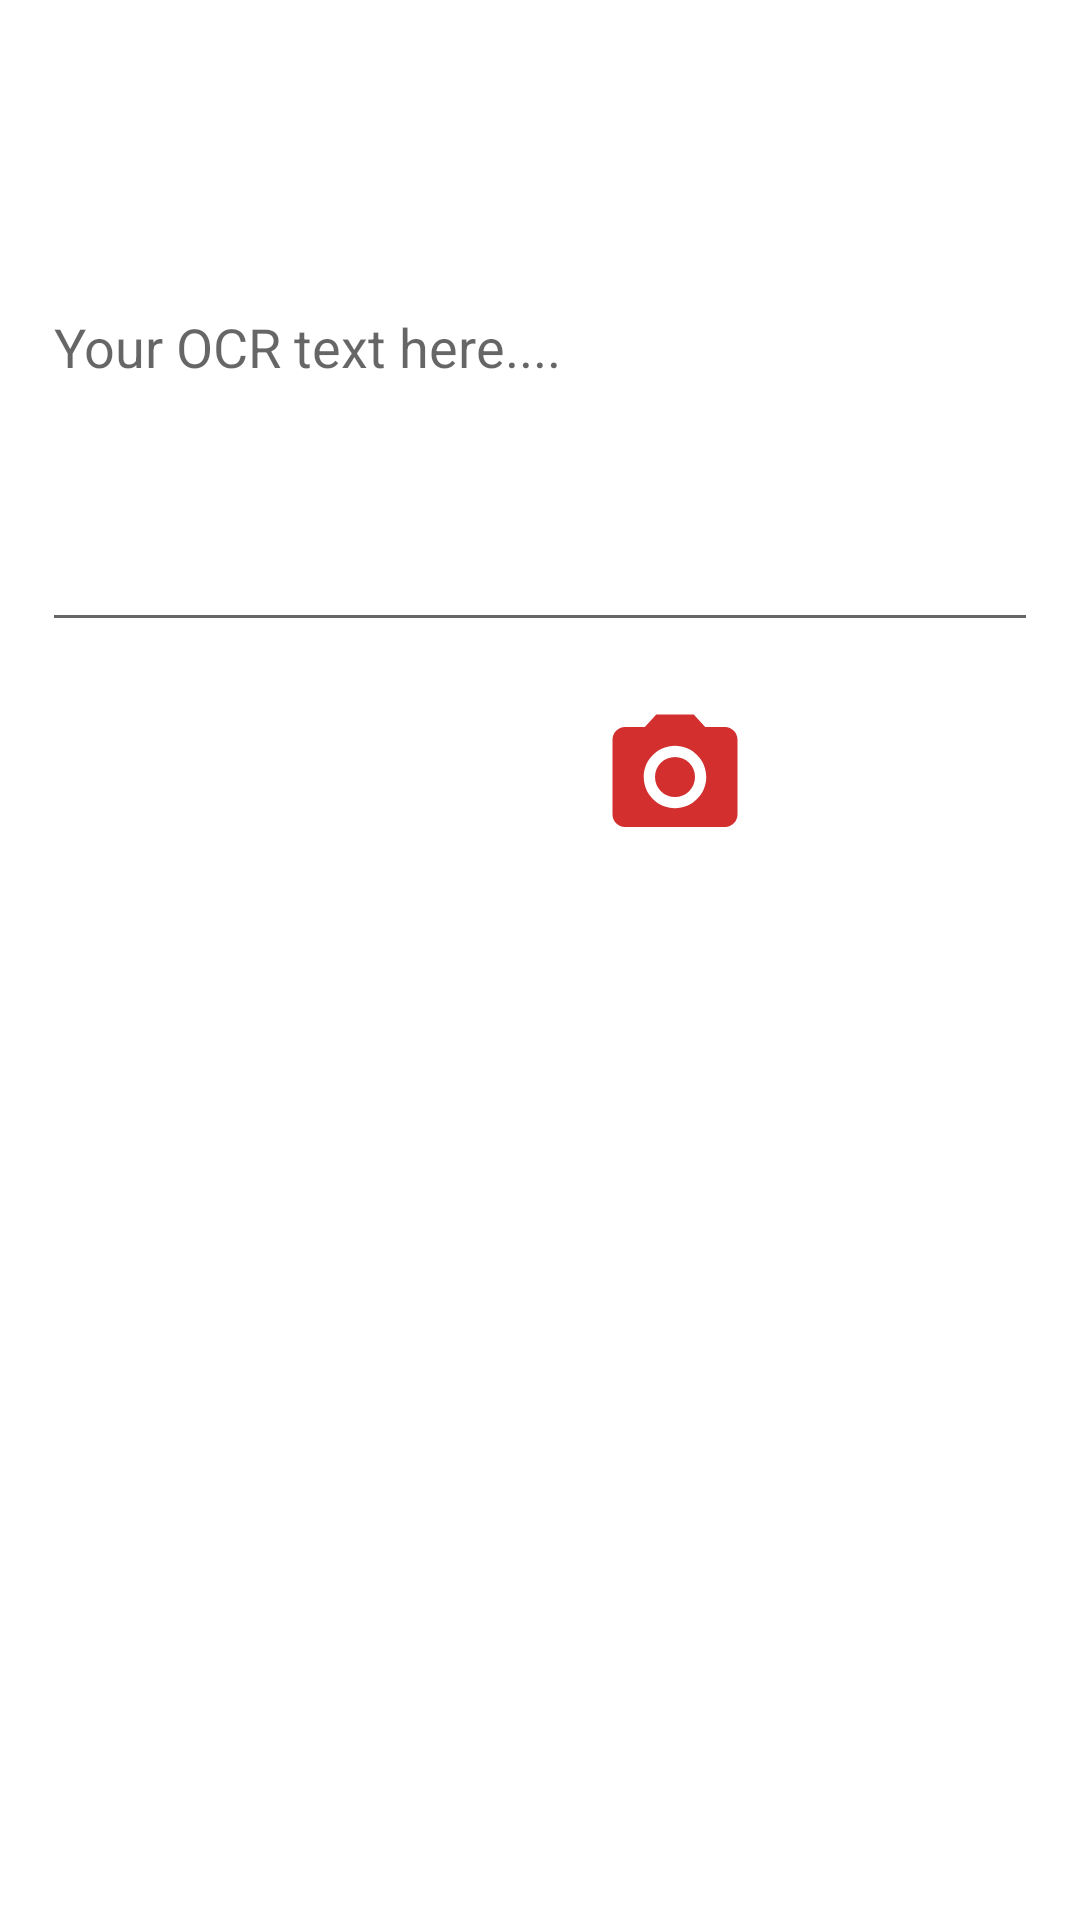

Where icons sit on this 1080px x 1920px app screen, as (x1=x1, y1=y1, x2=x2, y2=y2):
camera: (x1=612, y1=714, x2=738, y2=827)
